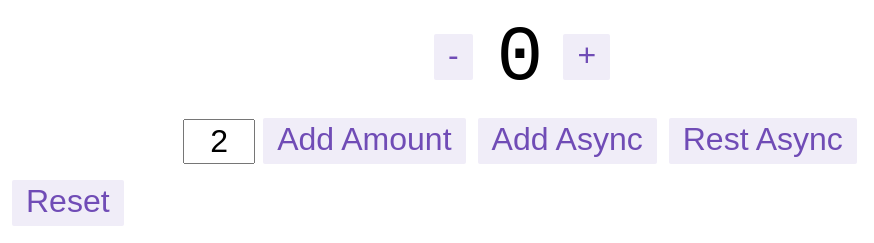
Test: Counter Tests › Render 1 when clicked + button
Click the button named "Increment value" at point(587, 57), box [563,34,610,80]
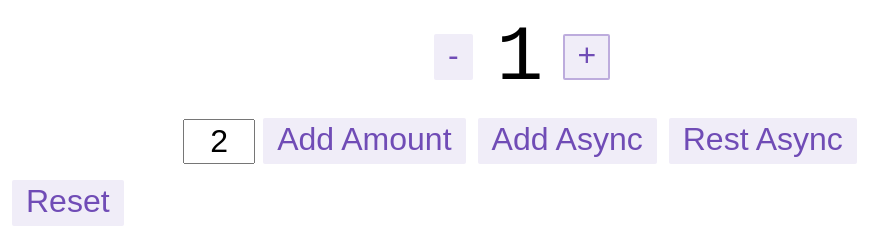
Expected: the text "1" is shown, [497,14,543,102]
